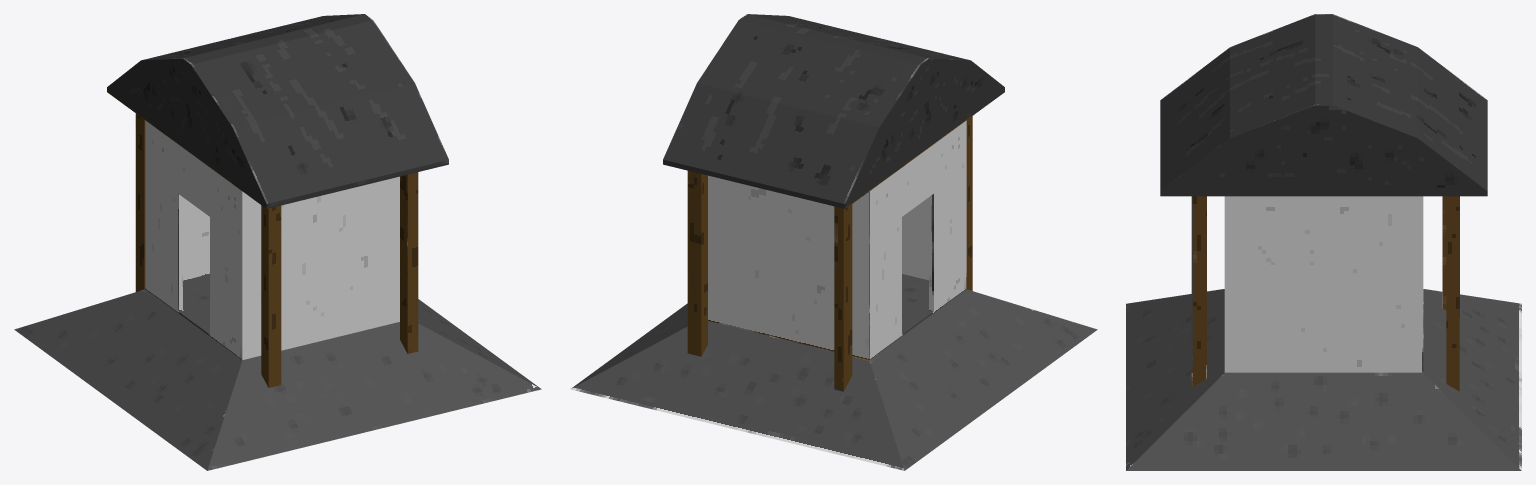
File: GermanHouse2.glb
3 renders of one model, left to right at view 1: azimuth 30°, elevation 25°; view 2: azimuth 150°, elevation 25°; view 3: azimuth 270°, elevation 25°, orthographic. The views are drawn at different scales.
Parts seen in each view (by area): view 1: Cube; view 2: Cube; view 3: Cube.
Part boxes in pixels (box(x1,y1,x2,y2)): Cube: box(14, 14, 541, 470); Cube: box(570, 14, 1097, 470); Cube: box(1126, 14, 1521, 470).
Size of the model in its own units: 12.09 by 11.05 by 12.09.
1 material, 1 textured.
